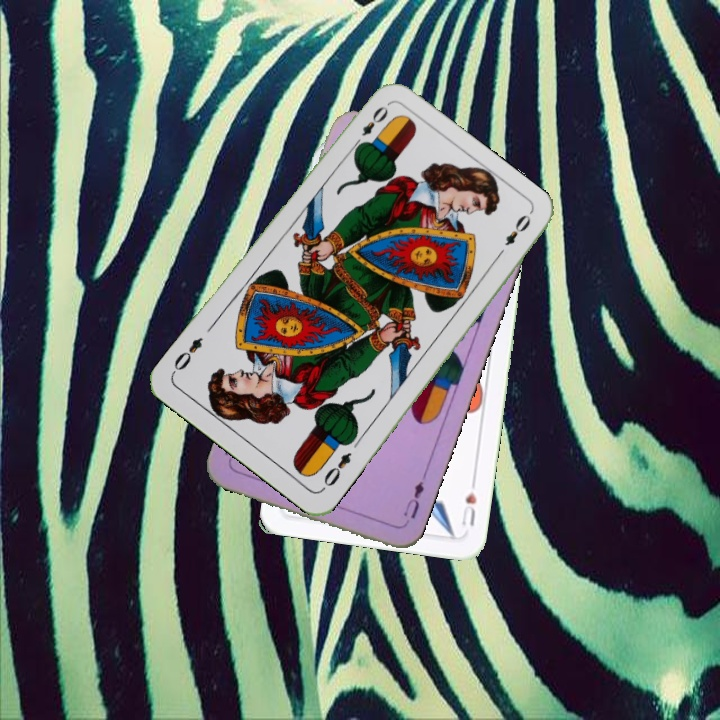EO: (349, 101, 391, 152), (319, 448, 354, 489)
EU: (399, 476, 427, 522)
HU: (457, 487, 479, 529)
